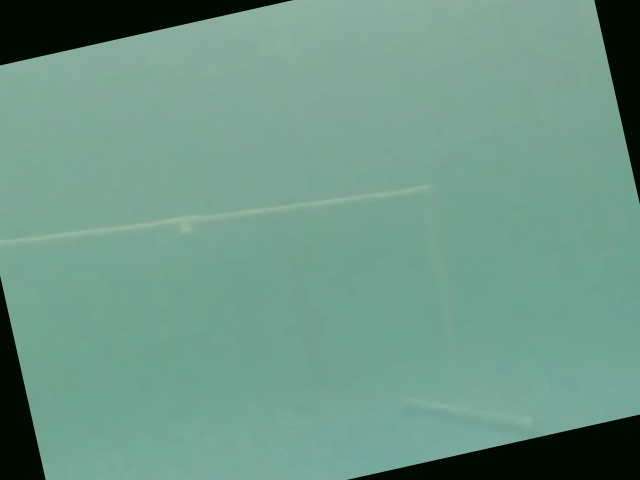gate: (0, 177, 540, 442)
